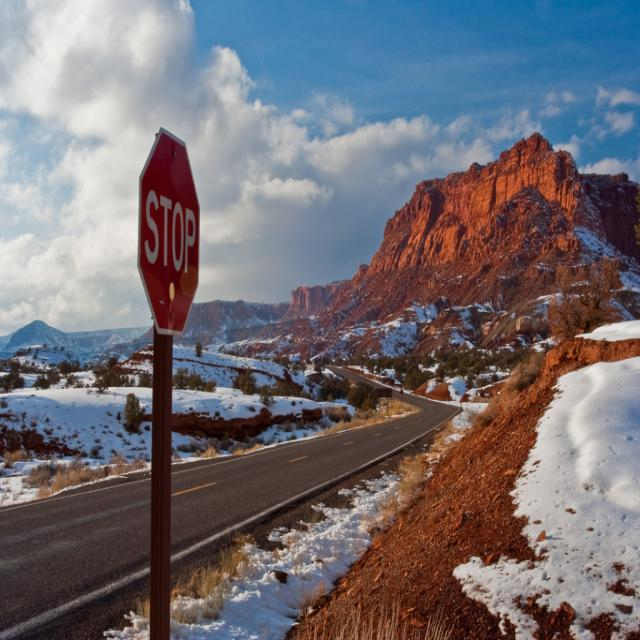Stop-sign: (136, 125, 200, 339)
